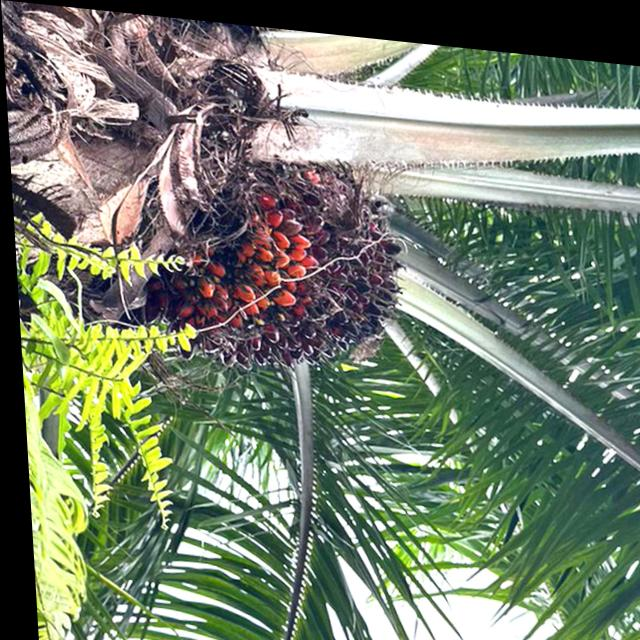ripe: (136, 126, 430, 399)
